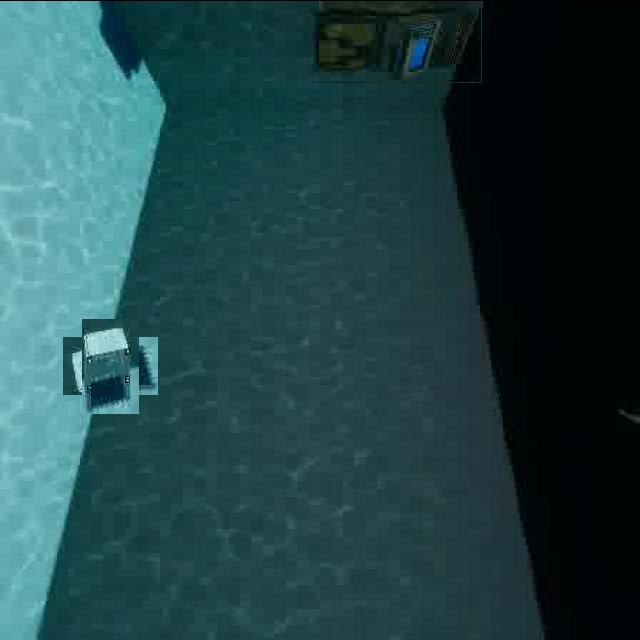Control Panel: (312, 0, 482, 82)
Docking Station: (72, 327, 149, 403)
